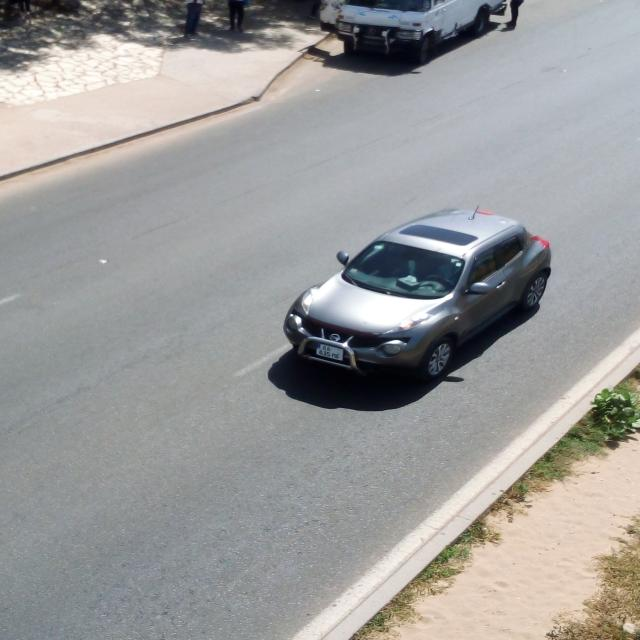ndiaga ndiaye: (336, 1, 508, 65)
particulier: (284, 211, 553, 381)
